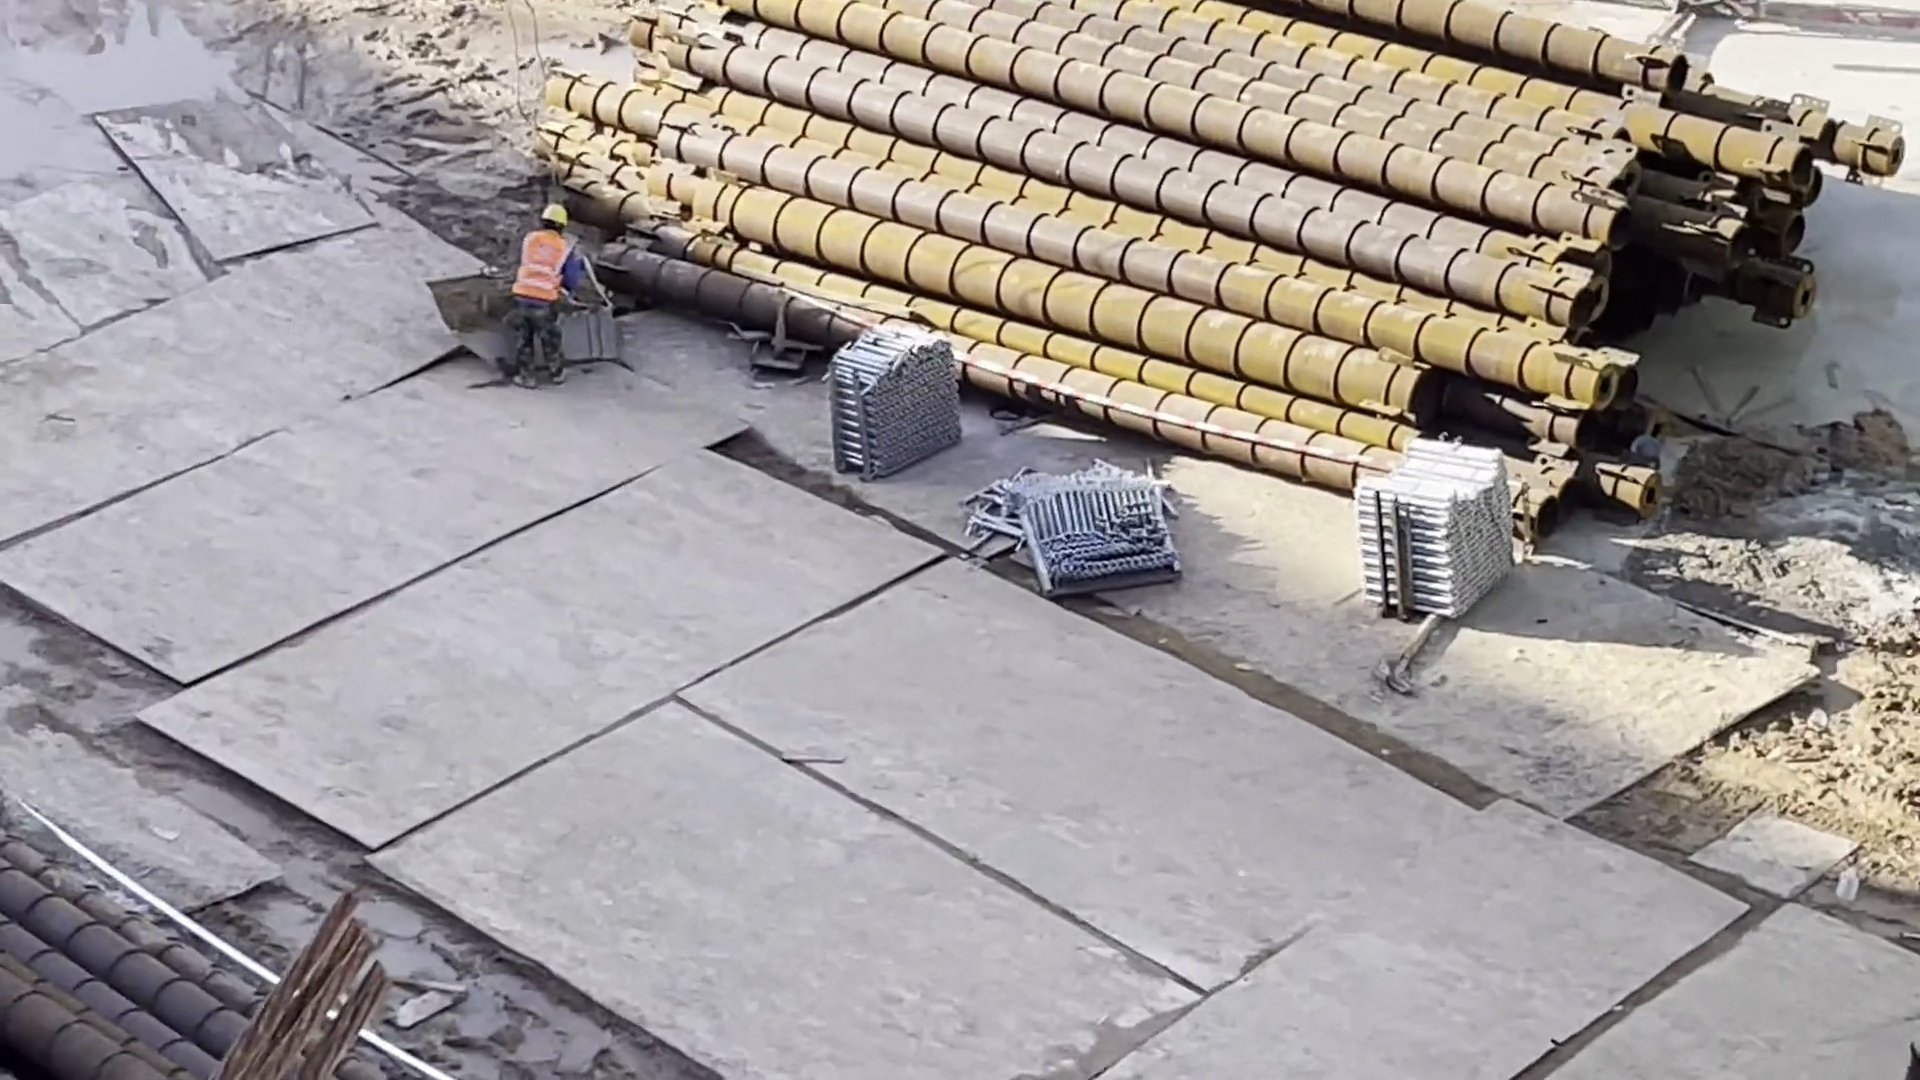helmet: (532, 195, 580, 228)
person: (493, 191, 592, 394)
scaffold: (1340, 413, 1540, 661), (818, 312, 970, 484)
vest: (503, 227, 577, 305)
